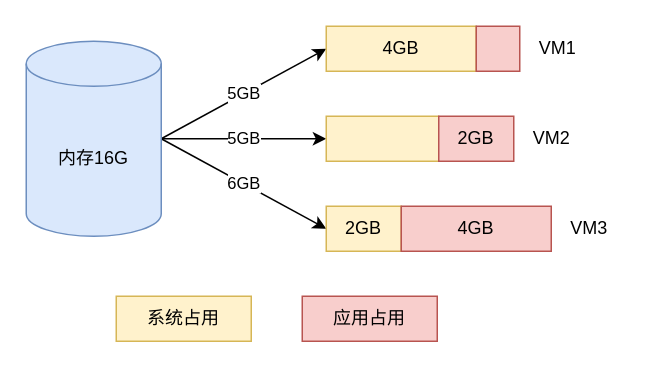
Image size: 653x368. Some labels were removed from this diagram. Each missing label, with the centre of its shape:
"1GB" goes at (497,48).
"3GB" goes at (382,138).
